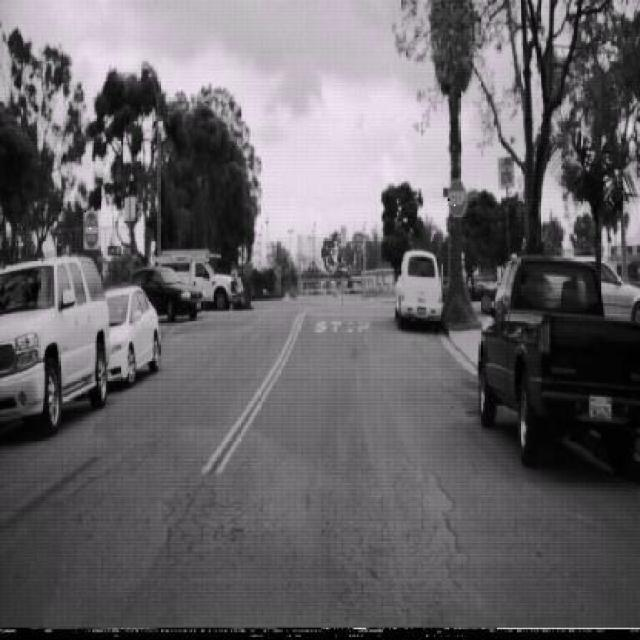doNotEnter: (85, 209, 100, 249)
stop: (448, 177, 466, 218)
